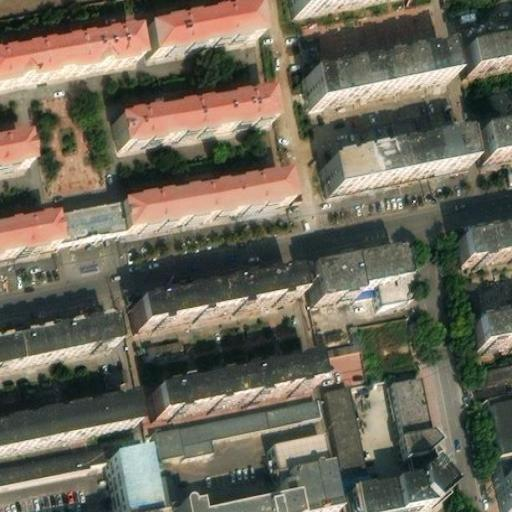building: (120, 162, 296, 225), (151, 393, 320, 452), (118, 79, 272, 141), (139, 350, 306, 406), (128, 268, 295, 324), (0, 17, 142, 78), (327, 132, 472, 187), (310, 43, 454, 98), (0, 396, 130, 448), (357, 452, 460, 512), (145, 0, 263, 45), (267, 434, 334, 512), (0, 317, 111, 362), (311, 243, 406, 295), (387, 382, 440, 458), (328, 380, 371, 471), (109, 448, 158, 512), (53, 195, 126, 237), (444, 223, 512, 261), (173, 493, 296, 512), (490, 391, 512, 472), (465, 36, 512, 70), (0, 125, 35, 163), (481, 120, 512, 159), (477, 308, 512, 342), (375, 272, 407, 302), (480, 353, 512, 376)
